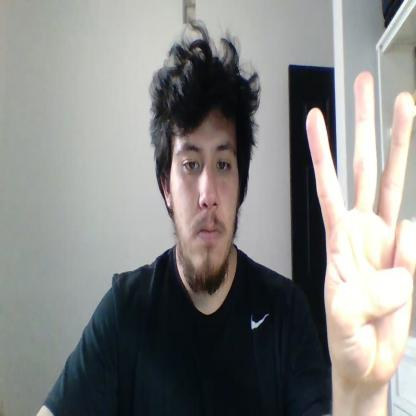W: (307, 72, 415, 386)
